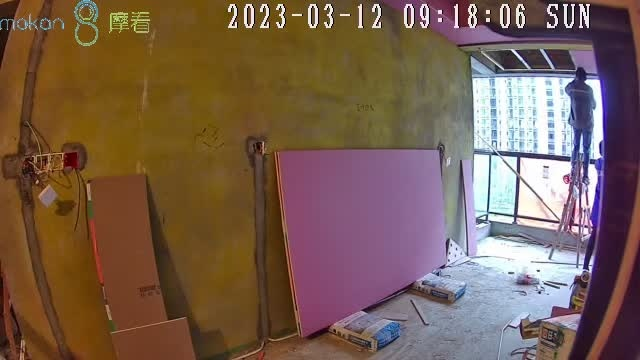people: (564, 66, 596, 186)
window: (473, 75, 604, 233)
